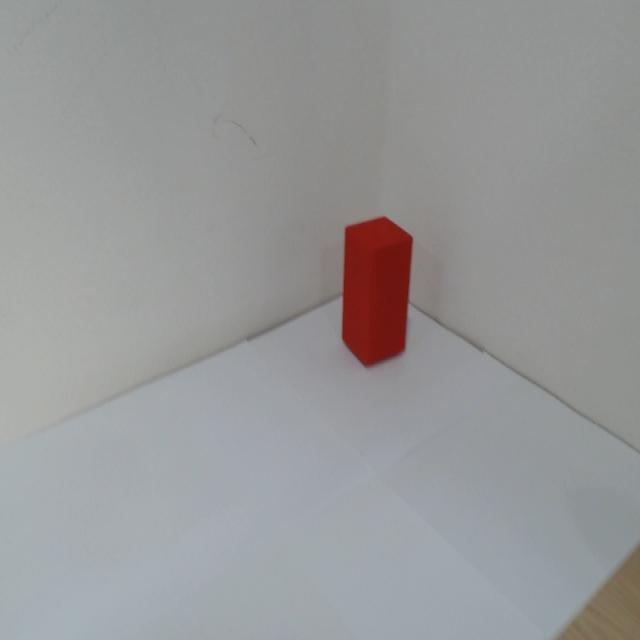cube: (334, 208, 417, 375)
